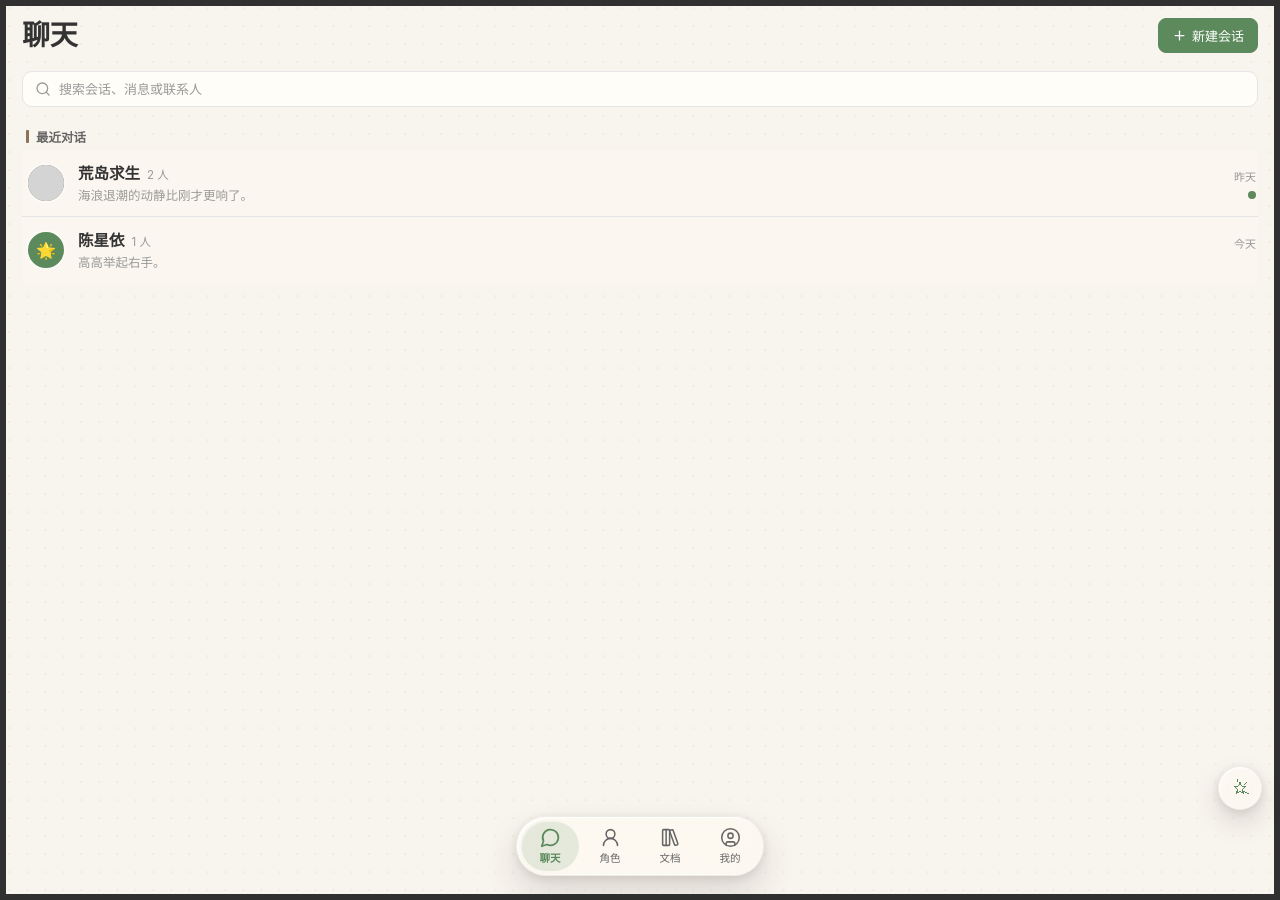
Test: MobileWorkspaceShell › 旧六块编排带退役后：无 directorStream 的轮不出编排带，也不重复加打字气泡
What coordinates should you click on to do the following:
click the button with class "mobile-flow-row" showing "荒岛求生 2 人 海浪退潮的动静比刚才更响了。 昨天"
I would click on:
 (46, 183)
Its box is [22,150,1260,217].
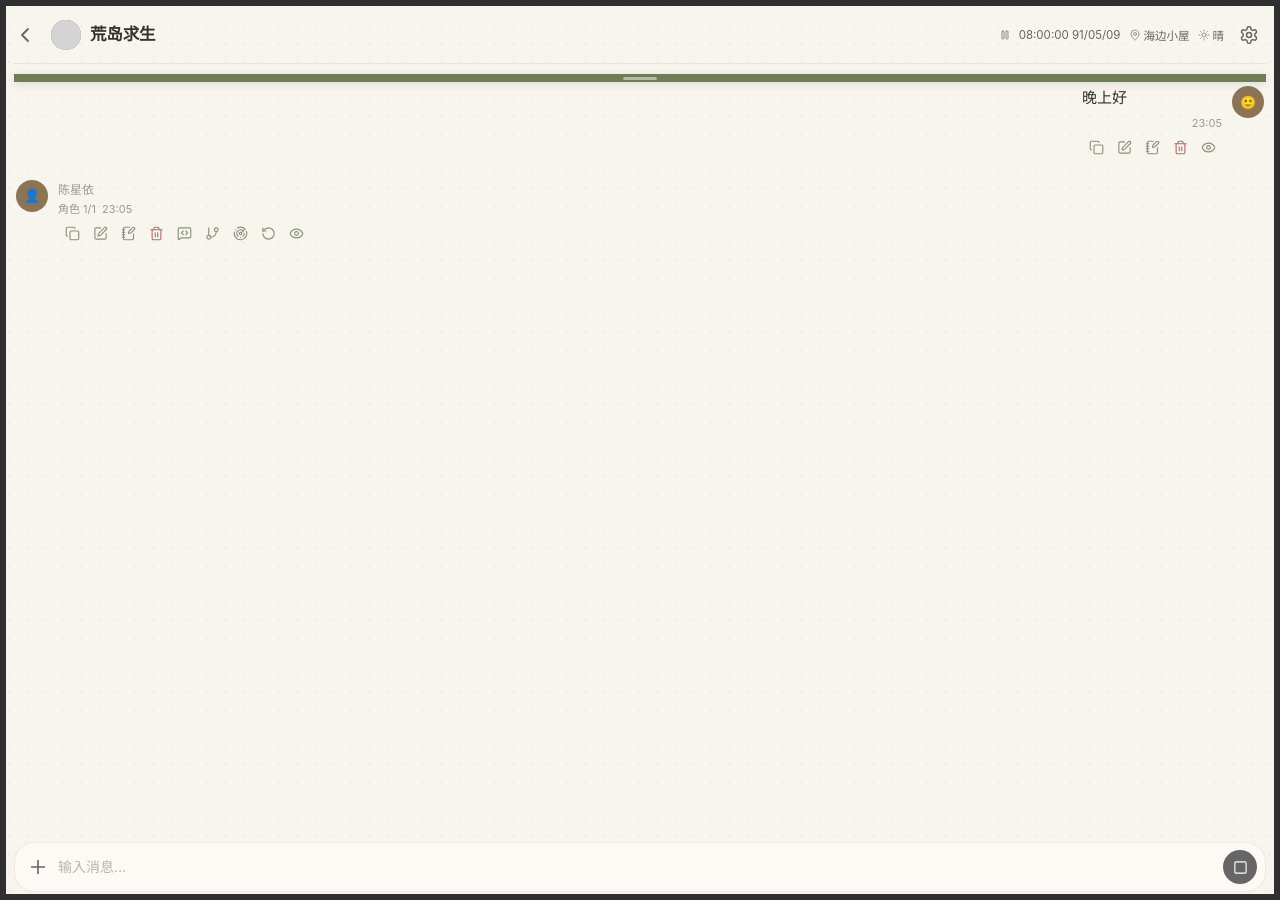
Expected: the button with class "tds-dock__bar" is shown, [14,74,1266,82]
